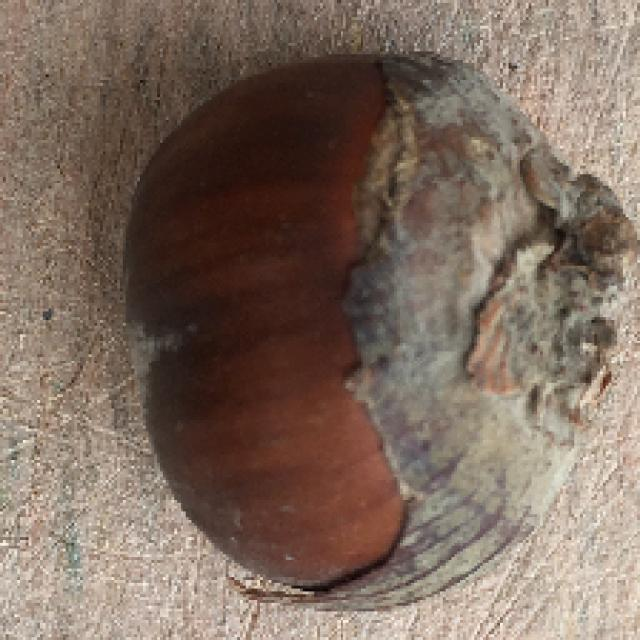damagedHazelnut: (100, 43, 640, 623)
